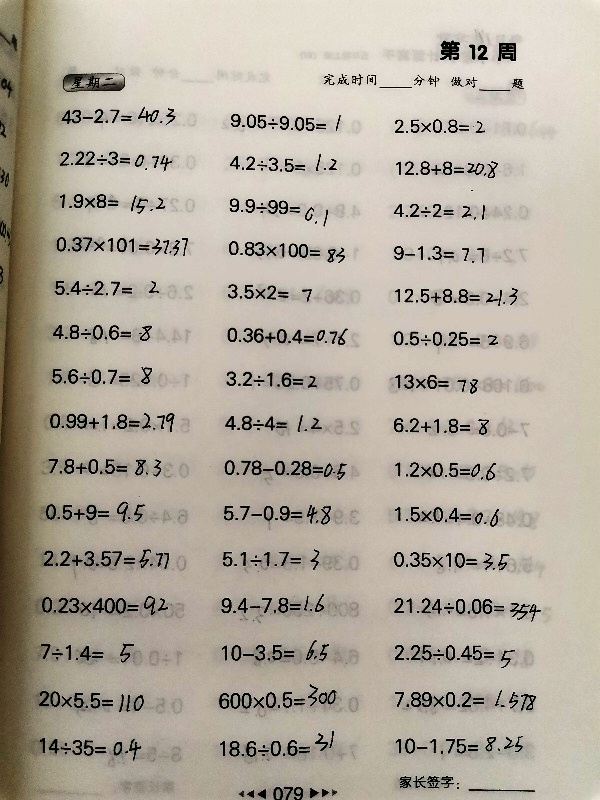equation: (391, 593, 544, 620), (391, 685, 539, 712), (214, 682, 340, 712), (391, 639, 518, 668), (38, 592, 172, 619), (39, 544, 173, 571), (52, 233, 191, 259), (46, 409, 179, 436), (217, 732, 338, 761), (220, 455, 350, 481), (391, 732, 526, 757), (34, 635, 142, 666), (391, 285, 522, 310), (37, 735, 145, 765), (218, 637, 333, 665), (52, 275, 168, 302), (224, 238, 349, 263), (220, 502, 335, 529), (389, 547, 512, 572), (223, 324, 351, 348), (57, 103, 178, 128), (45, 455, 165, 480), (42, 498, 149, 526), (225, 195, 332, 223), (56, 147, 175, 172), (221, 277, 323, 306), (219, 546, 324, 574), (227, 110, 344, 135), (35, 688, 147, 714), (56, 190, 168, 216), (226, 151, 340, 176), (392, 459, 500, 485), (391, 503, 502, 528), (393, 158, 502, 183), (49, 362, 156, 387), (217, 592, 327, 616), (390, 328, 502, 351), (49, 321, 155, 345), (222, 412, 326, 436), (389, 241, 488, 265), (389, 414, 492, 437), (390, 199, 488, 222), (391, 370, 481, 395), (222, 368, 320, 390), (392, 116, 489, 137)
